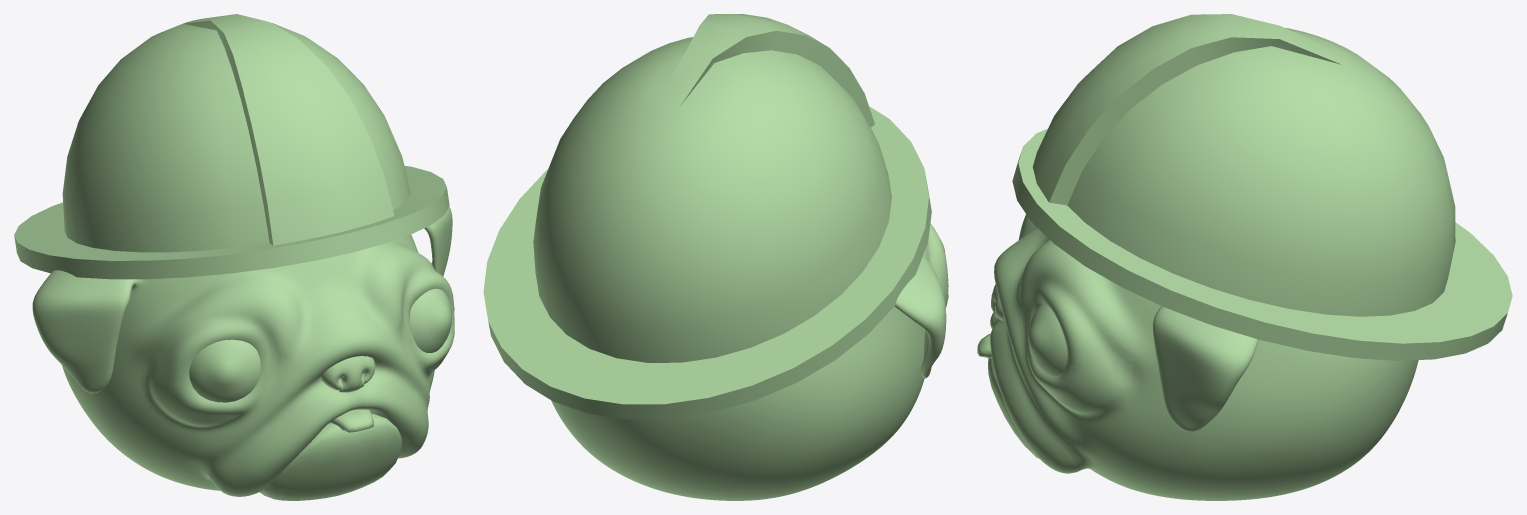
File: SM_ FE_Char_Dog_Head.fbx
The picture shows the model from 3 angles, left to right: view 1: azimuth 30°, elevation 25°; view 2: azimuth 150°, elevation 25°; view 3: azimuth 270°, elevation 25°; orthographic projection. The views are drawn at different scales.
Visible parts, largest first — view 1: head_Untitled.003; view 2: head_Untitled.003; view 3: head_Untitled.003.
Part boxes in pixels (x1,y1,x2,y2): head_Untitled.003: (14, 14, 454, 500); head_Untitled.003: (483, 14, 948, 500); head_Untitled.003: (977, 14, 1512, 500).
Bounding box in the file's own units: 84.98 × 84.62 × 91.08.
